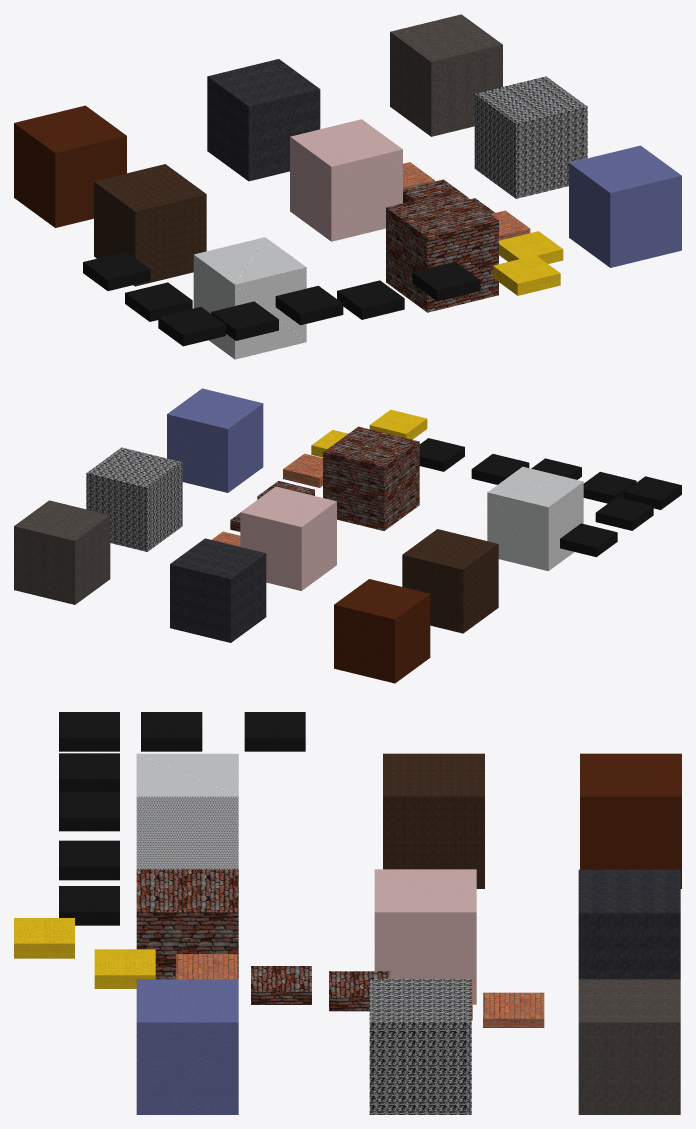
The picture shows the model from 3 angles, top to bottom: view 1: azimuth 30°, elevation 25°; view 2: azimuth 150°, elevation 25°; view 3: azimuth 270°, elevation 25°; orthographic projection. The views are drawn at different scales.
Visible parts, largest first — view 1: Cube.004, Cube, Cube.003, Cube.002, Cube.001, Cube.007, Cube.008, Cube.005, Cube.006, 立方体.006, 立方体.007, 立方体.009 (+9 smaller); view 2: Cube.001, Cube.008, Cube.002, Cube.005, Cube.004, Cube.006, Cube.003, Cube, Cube.007, 立方体.012, 立方体.013, 立方体.011 (+7 smaller); view 3: Cube.002, Cube.003, Cube.004, Cube.007, Cube.006, Cube.008, Cube.001, Cube, Cube.005, 立方体.006, 立方体.008, 立方体.012 (+10 smaller).
Part boxes in pixels (x1,y1,x2,y2): Cube.004: [569, 145, 681, 267]; Cube: [290, 119, 402, 241]; Cube.003: [474, 76, 587, 198]; Cube.002: [390, 14, 502, 136]; Cube.001: [207, 59, 320, 181]; Cube.007: [94, 164, 206, 286]; Cube.008: [14, 105, 126, 227]; Cube.005: [386, 190, 498, 312]; Cube.006: [193, 237, 306, 359]; 立方体.006: [493, 255, 560, 295]; 立方体.007: [412, 262, 480, 301]; 立方体.009: [275, 285, 343, 325]; Cube.001: [170, 538, 266, 642]; Cube.008: [334, 579, 430, 683]; Cube.002: [14, 500, 110, 604]; Cube.005: [323, 426, 419, 530]; Cube.004: [167, 388, 263, 492]; Cube.006: [487, 466, 583, 571]; Cube.003: [86, 447, 182, 551]; Cube: [240, 486, 336, 590]; Cube.007: [402, 529, 498, 633]; 立方体.012: [595, 497, 653, 530]; 立方体.013: [560, 523, 617, 557]; 立方体.011: [624, 476, 681, 509]; Cube.002: [578, 979, 680, 1114]; Cube.003: [369, 979, 471, 1114]; Cube.004: [136, 979, 238, 1114]; Cube.007: [383, 753, 484, 888]; Cube.006: [136, 753, 238, 869]; Cube.008: [580, 753, 681, 888]; Cube.001: [578, 869, 680, 979]; Cube: [374, 869, 476, 1004]; Cube.005: [136, 869, 238, 979]; 立方体.006: [14, 918, 74, 958]; 立方体.008: [59, 840, 119, 880]; 立方体.012: [141, 712, 202, 751].
Bounding box in the file's own units: 74.11 × 10.03 × 65.54.
Materials: 19 (19 with a texture image).
